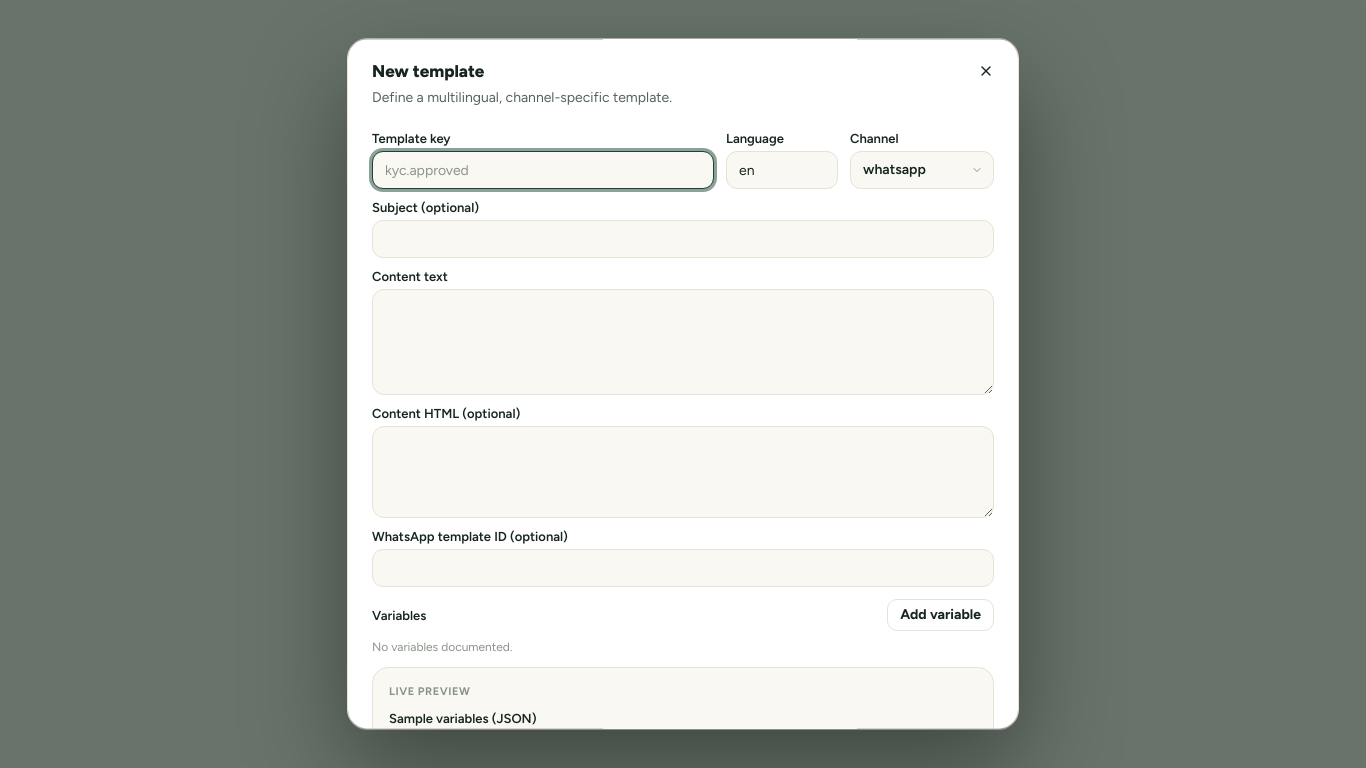
TemplateEditorDialog › surfaces a validation error inline without firing a request
Type "Body only" into the text box labelled "Content text".
click(683, 342); type("Body only")  # box [372,289,994,395]
(page scrolled)
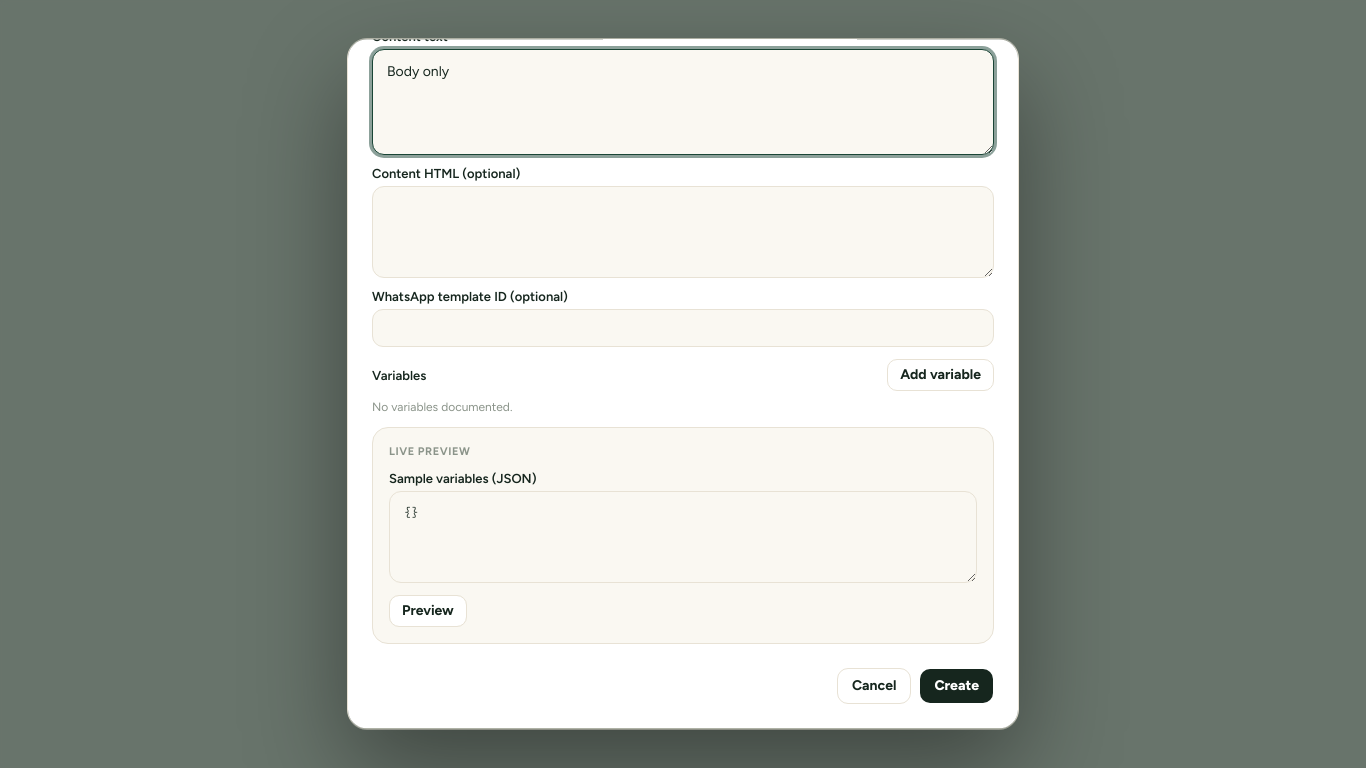
Click the button "Create".
click(957, 686)  # box [919,668,994,704]
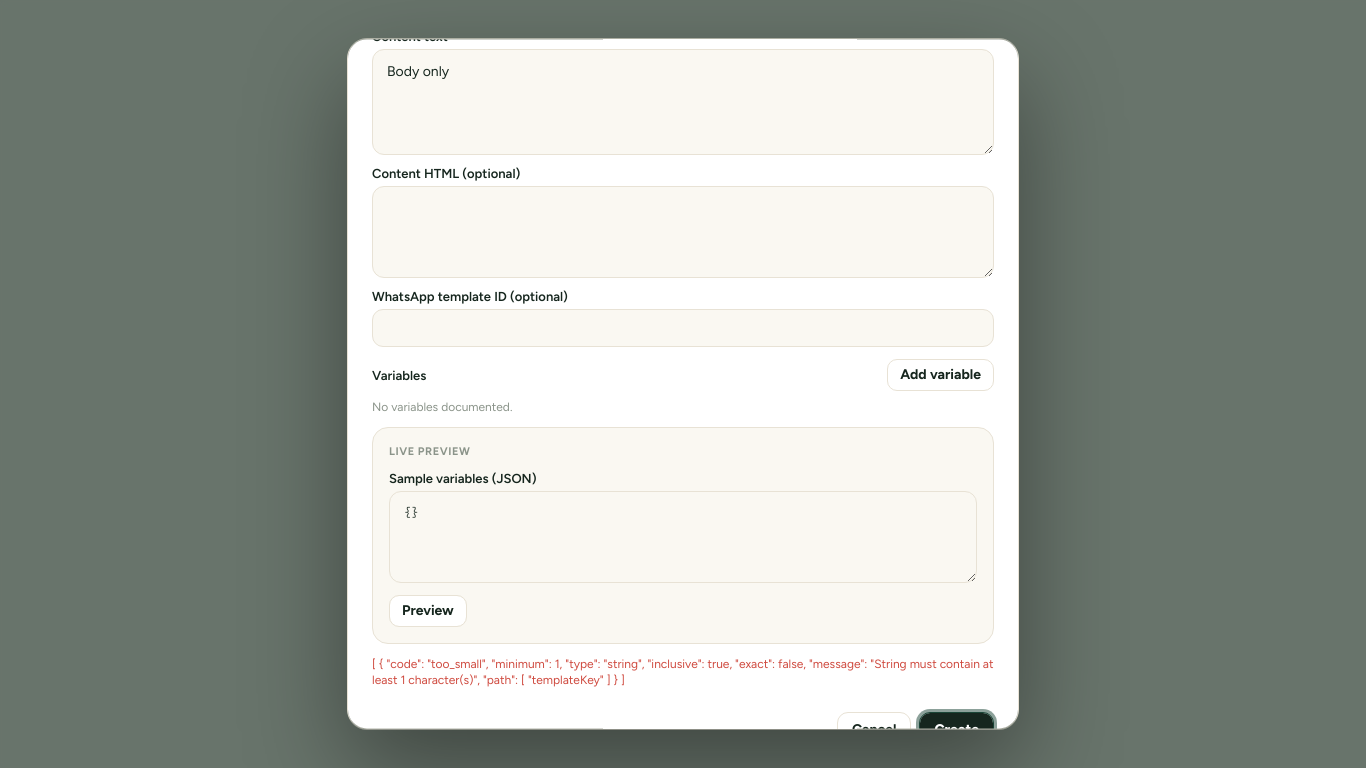
Result: the message is shown at [372,656,994,688]
